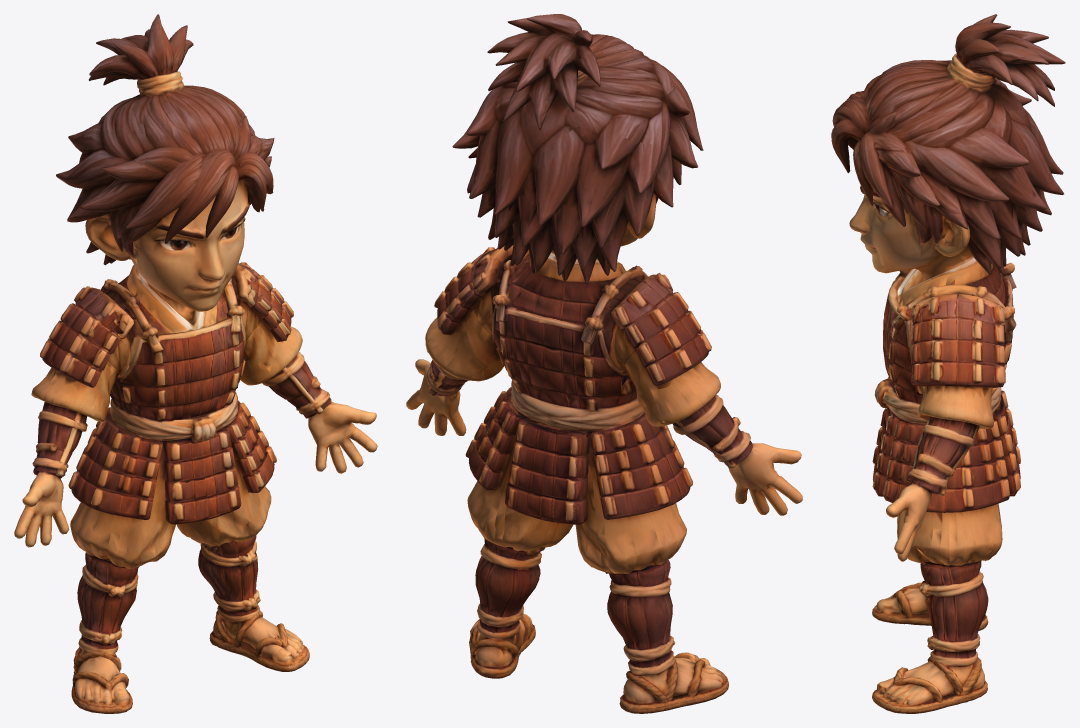
The model's file is hero.glb.
The picture shows the model from 3 angles, left to right: view 1: azimuth 30°, elevation 25°; view 2: azimuth 150°, elevation 25°; view 3: azimuth 270°, elevation 25°; orthographic projection. The views are drawn at different scales.
Visible parts, largest first — view 1: SamuraiHero; view 2: SamuraiHero; view 3: SamuraiHero.
Part boxes in pixels (left/top/right/bottom): SamuraiHero: left=14, top=14, right=377, bottom=713; SamuraiHero: left=406, top=14, right=802, bottom=713; SamuraiHero: left=831, top=14, right=1065, bottom=713.
Size of the model in its own units: 0.5906 by 0.9752 by 0.3229.
1 material, 1 textured.
